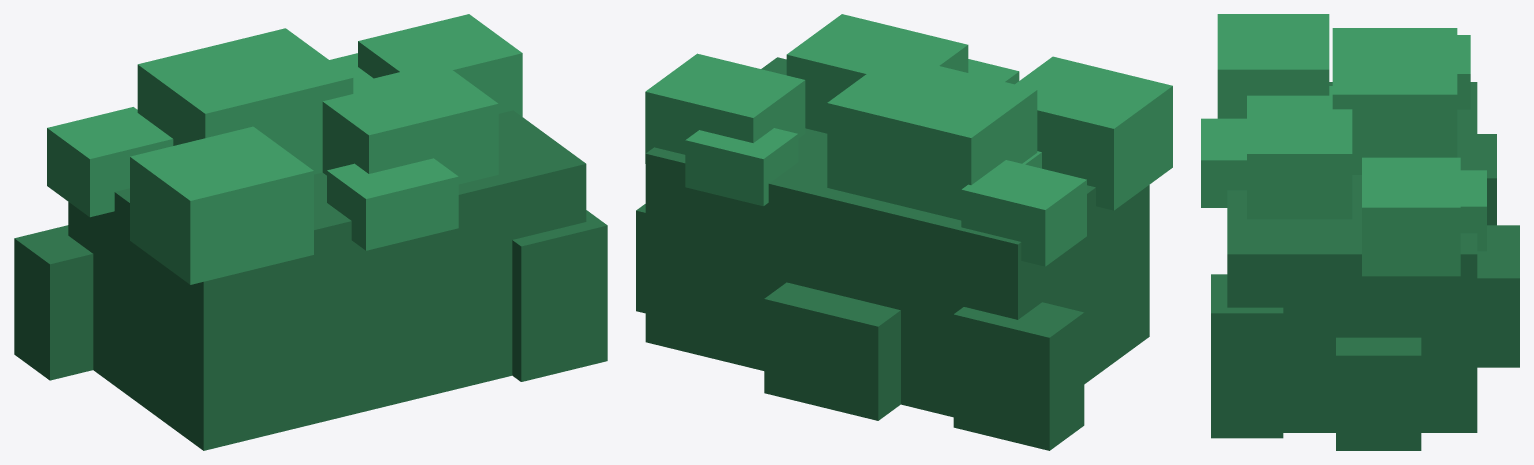
File: woodMass.glb
The picture shows the model from 3 angles, left to right: view 1: azimuth 30°, elevation 25°; view 2: azimuth 150°, elevation 25°; view 3: azimuth 270°, elevation 25°; orthographic projection. The views are drawn at different scales.
Visible parts, largest first — view 1: woodMass_leafDark, woodMass_leafMid; view 2: woodMass_leafDark, woodMass_leafMid; view 3: woodMass_leafDark, woodMass_leafMid.
Boxes of the visible parts, bbox=[...] form: woodMass_leafDark: bbox=[14, 110, 607, 450]; woodMass_leafMid: bbox=[47, 14, 522, 284]; woodMass_leafDark: bbox=[636, 57, 1149, 450]; woodMass_leafMid: bbox=[645, 14, 1172, 266]; woodMass_leafDark: bbox=[1211, 82, 1519, 450]; woodMass_leafMid: bbox=[1201, 14, 1486, 276].
Bounding box in the file's own units: 75.5 × 43.5 × 48.5.
